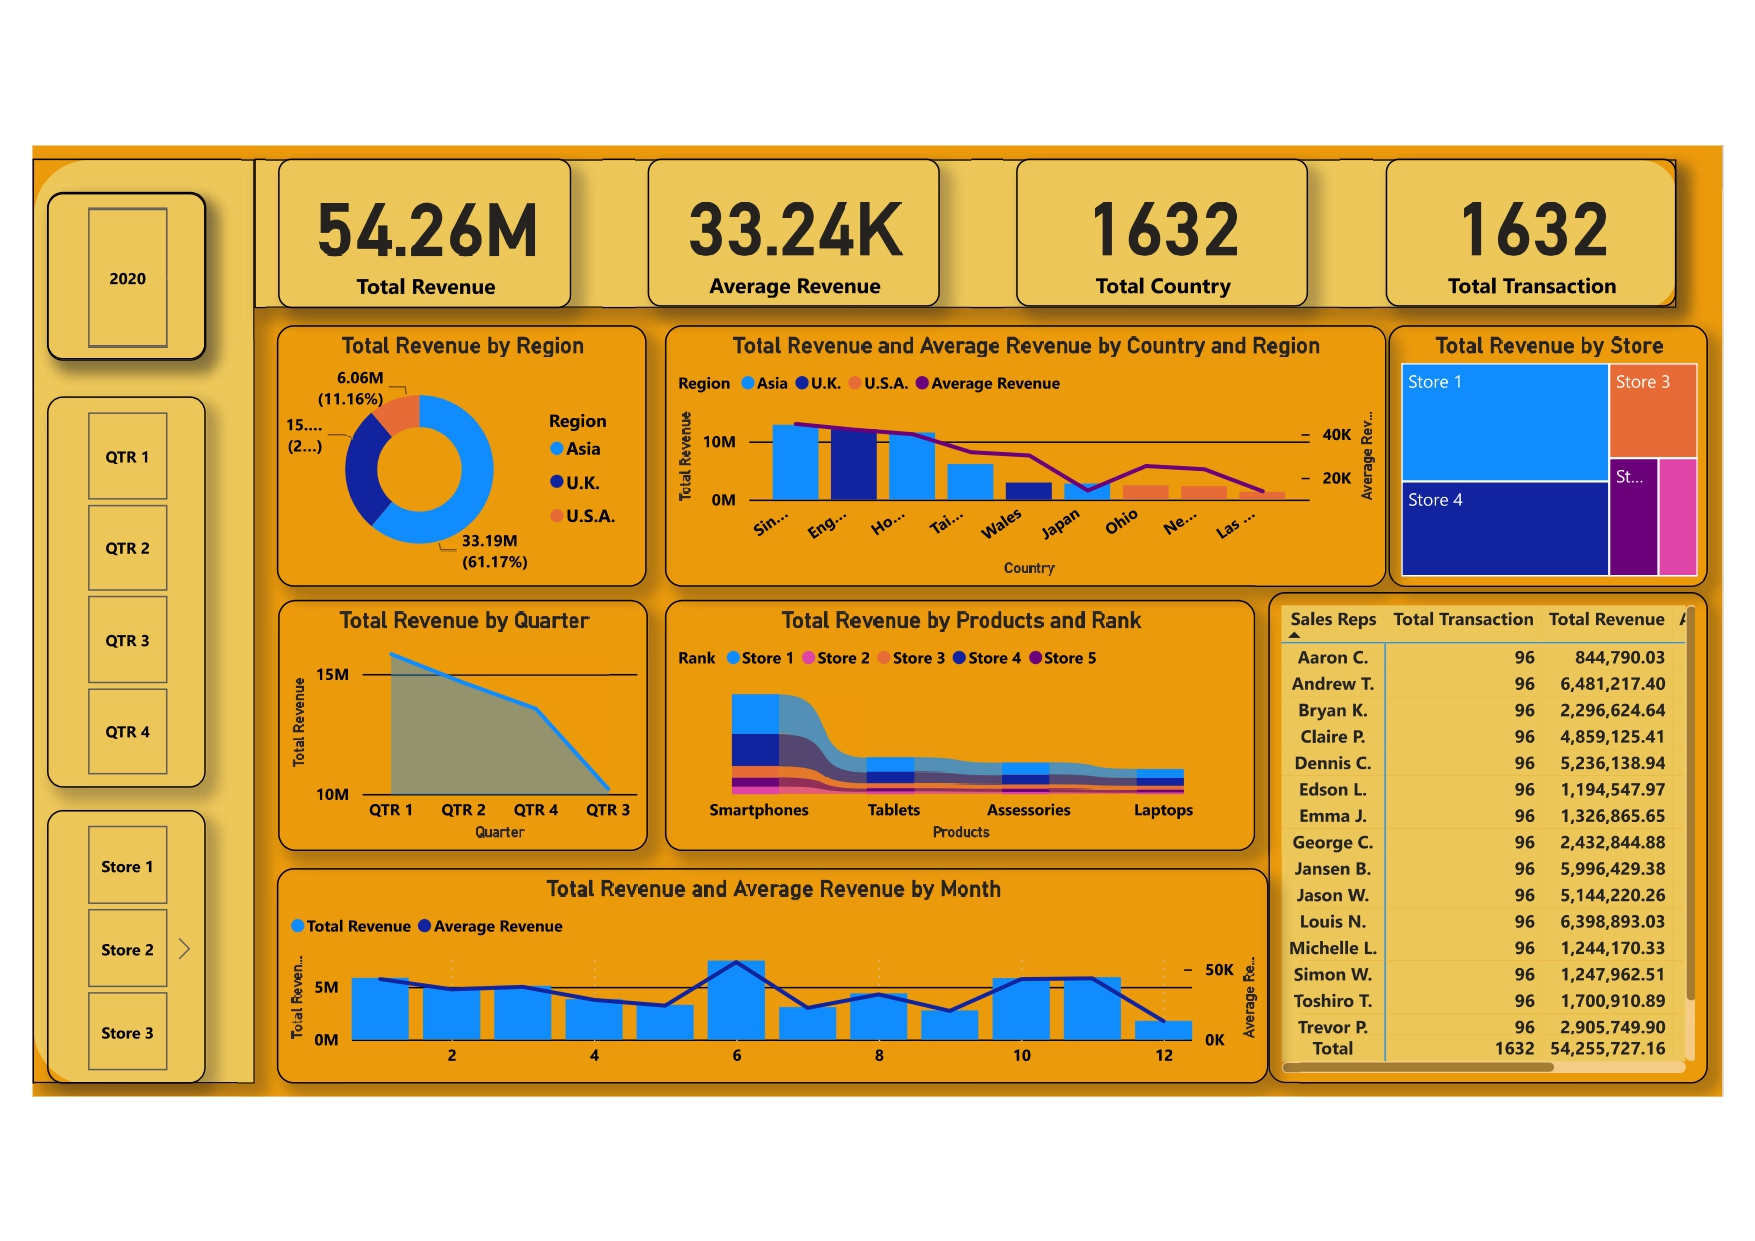

Layout of this report page (visuals, bound fields, positions):
{"tool":"powerbi","page":{"name":"Page 1","canvas":[1280,720],"ordinal":0},"visuals":[{"type":"shape","box":[0,9.9,167.7,700.5],"z":0},{"type":"shape","box":[167.5,10,1077.5,112.5],"z":1000},{"type":"card","fields":{"Values":["Measures (2).Total Revenue"]},"box":[186.2,10,221.2,112.5],"z":2000},{"type":"card","fields":{"Values":["Measures (2).Average Revenue"]},"box":[466.3,9.9,220.2,112.3],"z":3000},{"type":"card","fields":{"Values":["Measures (2).Total Country"]},"box":[745.4,9.9,220.2,112.3],"z":4000},{"type":"card","fields":{"Values":["Measures (2).Total Transaction"]},"box":[1024.5,9.9,220.2,112.3],"z":5000},{"type":"donutChart","fields":{"Category":["Sheet1.Region"],"Y":["Measures (2).Total Revenue"]},"box":[184.7,136.4,279.9,197.5],"z":6000},{"type":"lineStackedColumnComboChart","fields":{"Category":["Sheet1.Country"],"Y":["Measures (2).Total Revenue"],"Y2":["Measures (2).Average Revenue"],"Series":["Sheet1.Region"]},"box":[478.9,136.4,545.7,197.5],"z":7000},{"type":"treemap","title":"Total Revenue by Store","fields":{"Values":["Measures (2).Total Revenue"],"Group":["Sheet1.Rank"]},"box":[1027.4,136.4,241.6,197.5],"z":8000},{"type":"areaChart","fields":{"Y":["Measures (2).Total Revenue"],"Category":["Sheet1.Quarter"]},"box":[186.1,343.9,279.9,190.4],"z":9000},{"type":"ribbonChart","fields":{"Category":["Sheet1.Products"],"Y":["Measures (2).Total Revenue"],"Series":["Sheet1.Rank"]},"box":[478.9,343.9,447.6,190.4],"z":10000},{"type":"pivotTable","fields":{"Rows":["Sheet1.Sales Reps"],"Values":["Measures (2).Total Transaction","Measures (2).Total Revenue","Measures (2).Average Revenue"]},"box":[936.4,338.2,332.5,372.3],"z":11000},{"type":"lineStackedColumnComboChart","fields":{"Y":["Measures (2).Total Revenue"],"Y2":["Measures (2).Average Revenue"],"Category":["Sheet1.Month"]},"box":[184.7,547.1,751.7,163.4],"z":12000},{"type":"slicer","fields":{"Values":["Sheet1.Years"]},"box":[11.2,35,120,127.5],"z":13000},{"type":"slicer","fields":{"Values":["Sheet1.Quarter"]},"box":[11.4,190.4,119.4,295.6],"z":14000},{"type":"slicer","fields":{"Values":["Sheet1.Rank"]},"box":[11.4,503,119.4,207.5],"z":15000},{"type":"slicer","fields":{"Values":["Sheet1.Years"]},"box":[11.4,35.5,119.4,126.5],"z":16000}]}

Visuals, with their boxes in screenshot pixels (x1, y1, x2, y2):
shape: rect(23, 146, 250, 1093)
shape: rect(249, 146, 1706, 298)
card - Measures (2).Total Revenue: rect(275, 146, 574, 298)
card - Measures (2).Average Revenue: rect(653, 146, 951, 298)
card - Measures (2).Total Country: rect(1031, 146, 1328, 298)
card - Measures (2).Total Transaction: rect(1408, 146, 1706, 298)
donutChart - Sheet1.Region x Measures (2).Total Revenue: rect(273, 317, 651, 584)
lineStackedColumnComboChart - Sheet1.Country x Measures (2).Total Revenue: rect(670, 317, 1408, 584)
"Total Revenue by Store" treemap: rect(1412, 317, 1739, 584)
areaChart - Measures (2).Total Revenue x Sheet1.Quarter: rect(274, 598, 653, 855)
ribbonChart - Sheet1.Products x Measures (2).Total Revenue: rect(670, 598, 1276, 855)
pivotTable - Sheet1.Sales Reps x Measures (2).Total Transaction: rect(1289, 590, 1739, 1093)
lineStackedColumnComboChart - Measures (2).Total Revenue x Measures (2).Average Revenue: rect(273, 872, 1289, 1093)
slicer - Sheet1.Years: rect(38, 180, 200, 352)
slicer - Sheet1.Quarter: rect(38, 390, 200, 790)
slicer - Sheet1.Rank: rect(38, 813, 200, 1093)
slicer - Sheet1.Years: rect(38, 181, 200, 352)
